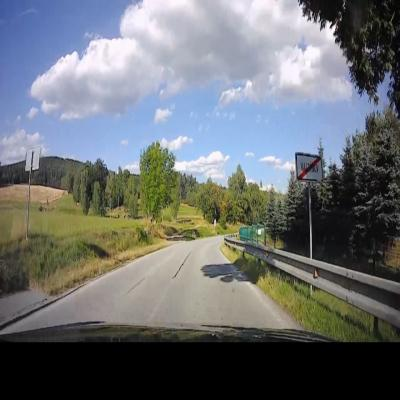clear-road: (0, 236, 300, 334)
